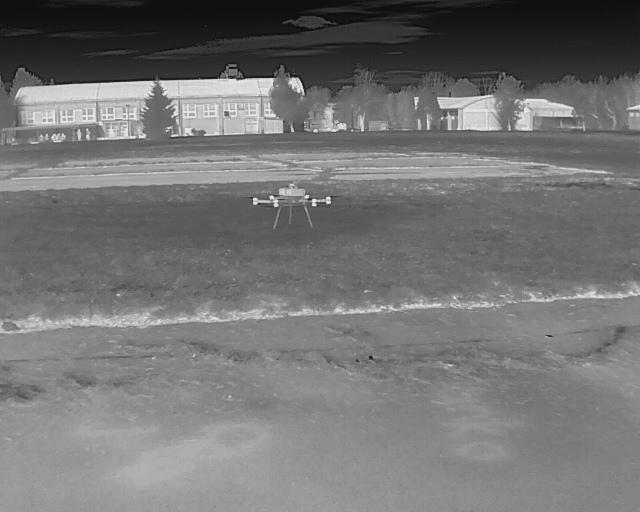drone: (246, 180, 334, 226)
